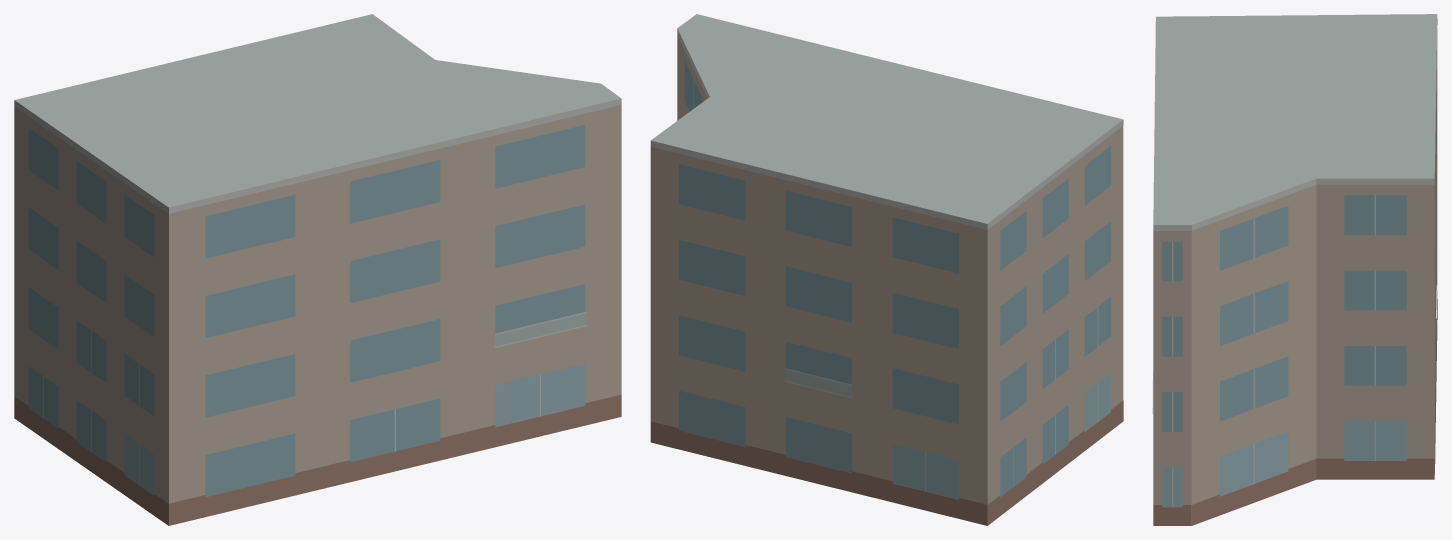
File: survey-upis-32988626.glb
The picture shows the model from 3 angles, left to right: view 1: azimuth 30°, elevation 25°; view 2: azimuth 150°, elevation 25°; view 3: azimuth 270°, elevation 25°; orthographic projection. The views are drawn at different scales.
Parts seen in each view (by area): view 1: survey-upis-32988626.tmp; view 2: survey-upis-32988626.tmp; view 3: survey-upis-32988626.tmp.
Boxes of the visible parts, <box> form: survey-upis-32988626.tmp: <box>14,14,621,525</box>; survey-upis-32988626.tmp: <box>650,14,1123,525</box>; survey-upis-32988626.tmp: <box>1152,14,1437,525</box>.
Bounding box in the file's own units: 18.34 × 12.2 × 10.47.
